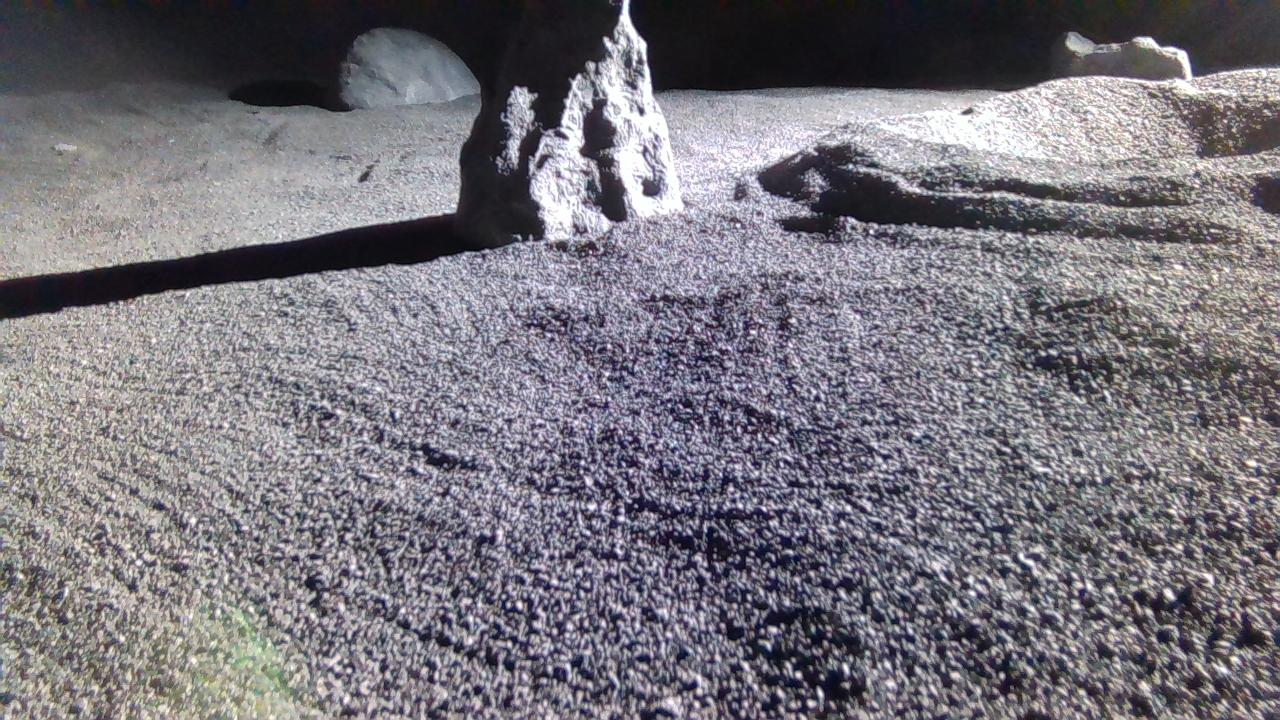rock: (455, 0, 683, 246), (339, 27, 480, 107), (1053, 30, 1195, 78)
